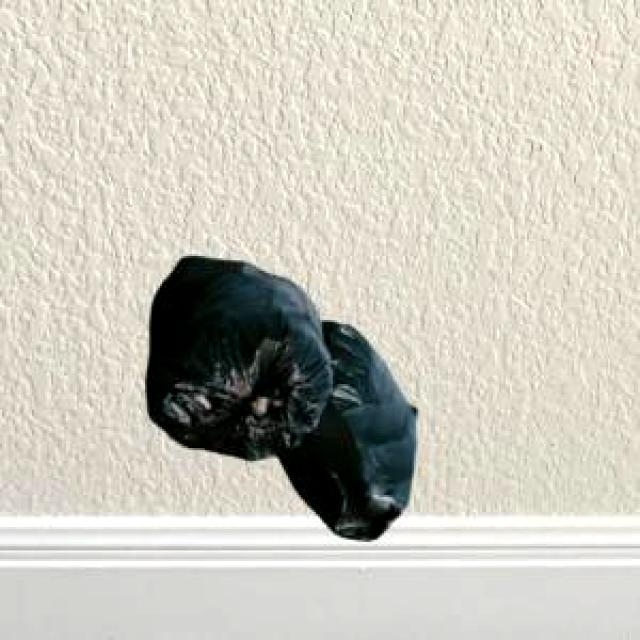Garbage_Bag: (144, 252, 415, 538)
